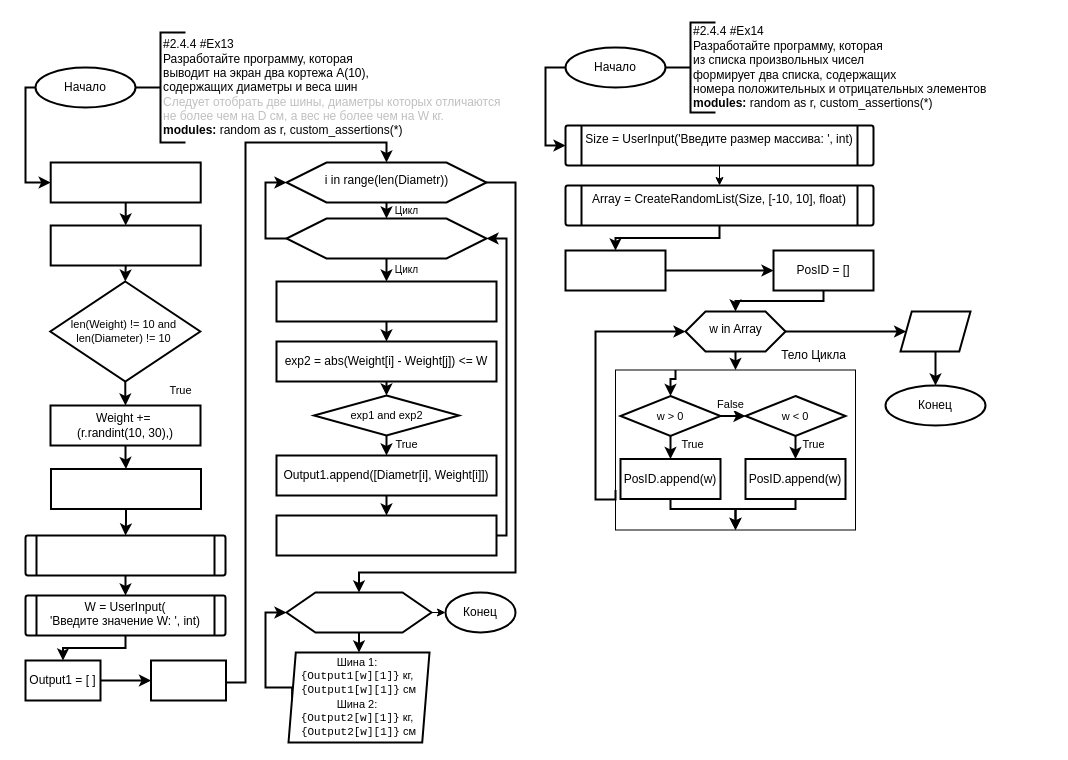
This 1068x760 diagram has some shape labels left out. The shapes that lost their labels are listed below. From the top down, each one's box as (x1, y1, x2, y2) in pixels, then its label:
(49, 161, 201, 203): Weight = tuple()
(49, 224, 201, 266): Diameter = tuple()
(285, 217, 487, 259): j in range(i+1, len(Diametr))
(564, 249, 666, 291): NegID = []
(275, 280, 497, 322): exp1 = abs(Diametr[i] - Diametr[j]) <= D
(899, 310, 971, 352): Array PosID NegID
(50, 468, 202, 510): Diameter += (r.randint(10, 30),)
(24, 534, 226, 576): D = UserInput( 'Введите значение D: ', int)
(275, 514, 497, 556): Output2.append([Diametr[j], Weight[j]])
(285, 591, 432, 633): w in range( len(Output1) - 1)
(150, 659, 226, 701): Output2 = [ ]
